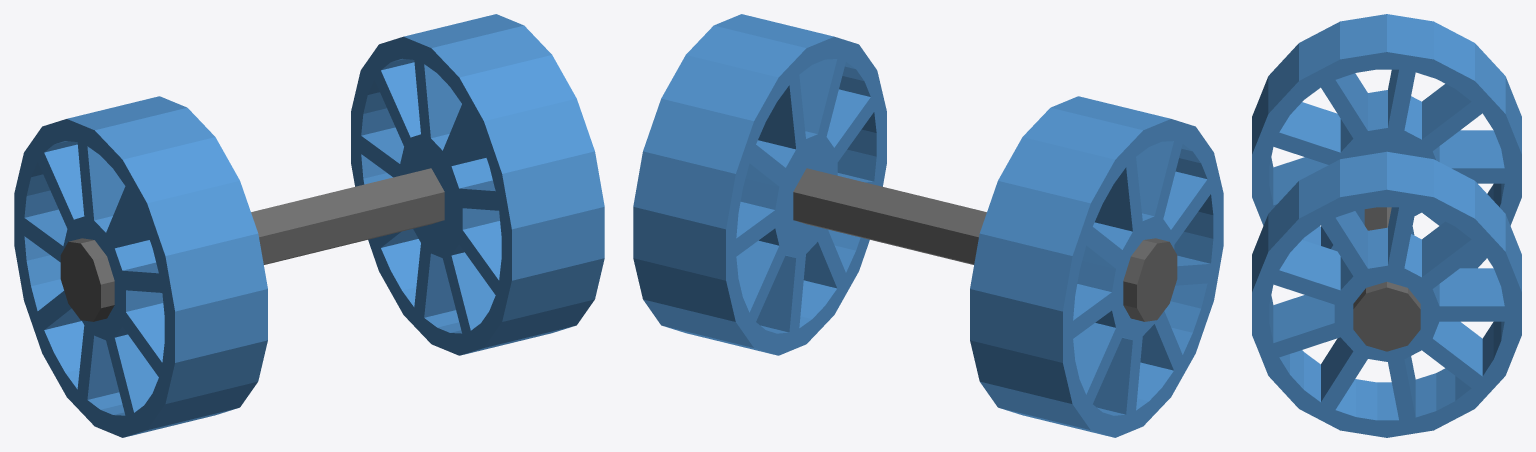
File: end-effector-front-rollers.glb
The picture shows the model from 3 angles, left to right: view 1: azimuth 30°, elevation 25°; view 2: azimuth 150°, elevation 25°; view 3: azimuth 270°, elevation 25°; orthographic projection. The views are drawn at different scales.
Parts seen in each view (by area): view 1: mesh91, mesh79, mesh93, mesh8, mesh9, mesh94, mesh1, mesh2, mesh92, mesh7, mesh10, mesh95 (+33 smaller); view 2: mesh91, mesh79, mesh100, mesh15, mesh14, mesh99, mesh4, mesh3, mesh101, mesh16, mesh13, mesh98 (+32 smaller); view 3: mesh164, mesh6, mesh166, mesh120, mesh35, mesh163, mesh159, mesh50, mesh11, mesh12, mesh96, mesh97 (+35 smaller).
Boxes of the visible parts, x1,y1,x2,y2 form: mesh91: [351, 36, 511, 355]; mesh79: [14, 119, 174, 437]; mesh93: [502, 151, 604, 229]; mesh8: [165, 233, 267, 311]; mesh9: [147, 181, 258, 255]; mesh94: [484, 98, 594, 173]; mesh1: [259, 192, 444, 263]; mesh2: [251, 168, 444, 237]; mesh92: [512, 207, 604, 280]; mesh7: [175, 289, 267, 362]; mesh10: [123, 137, 239, 203]; mesh95: [459, 55, 576, 120]; mesh91: [726, 36, 886, 355]; mesh79: [1063, 119, 1223, 437]; mesh100: [633, 151, 735, 229]; mesh15: [970, 233, 1072, 311]; mesh14: [979, 181, 1090, 255]; mesh99: [643, 98, 753, 173]; mesh4: [793, 192, 978, 263]; mesh3: [793, 168, 986, 237]; mesh101: [633, 207, 725, 280]; mesh16: [970, 289, 1062, 362]; mesh13: [998, 137, 1114, 203]; mesh98: [661, 55, 778, 120]; mesh164: [1252, 189, 1521, 437]; mesh6: [1252, 52, 1521, 268]; mesh166: [1353, 287, 1420, 351]; mesh120: [1439, 268, 1504, 306]; mesh35: [1439, 130, 1504, 168]; mesh163: [1273, 295, 1334, 342]; mesh159: [1279, 240, 1340, 290]; mesh50: [1279, 102, 1340, 152]; mesh11: [1340, 14, 1386, 59]; mesh12: [1387, 14, 1433, 59]; mesh96: [1340, 151, 1386, 197]; mesh97: [1387, 151, 1433, 197].
Bounding box in the file's own units: 0.1251 × 0.0774 × 0.0762.
